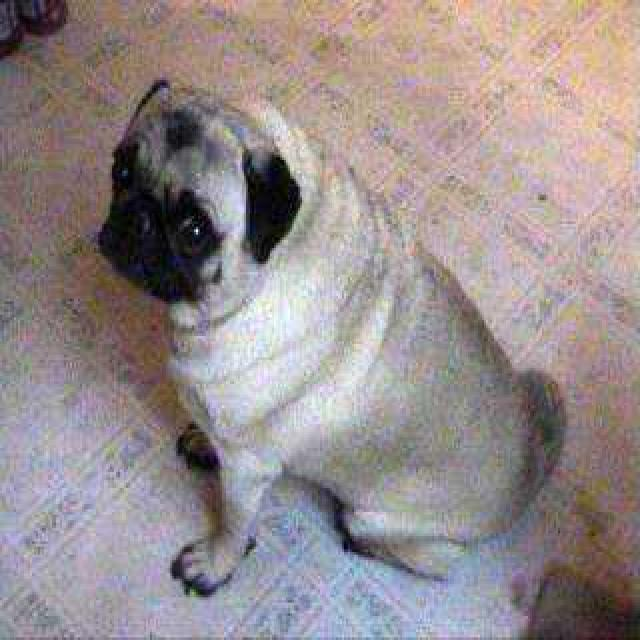dogs: (96, 77, 566, 601)
